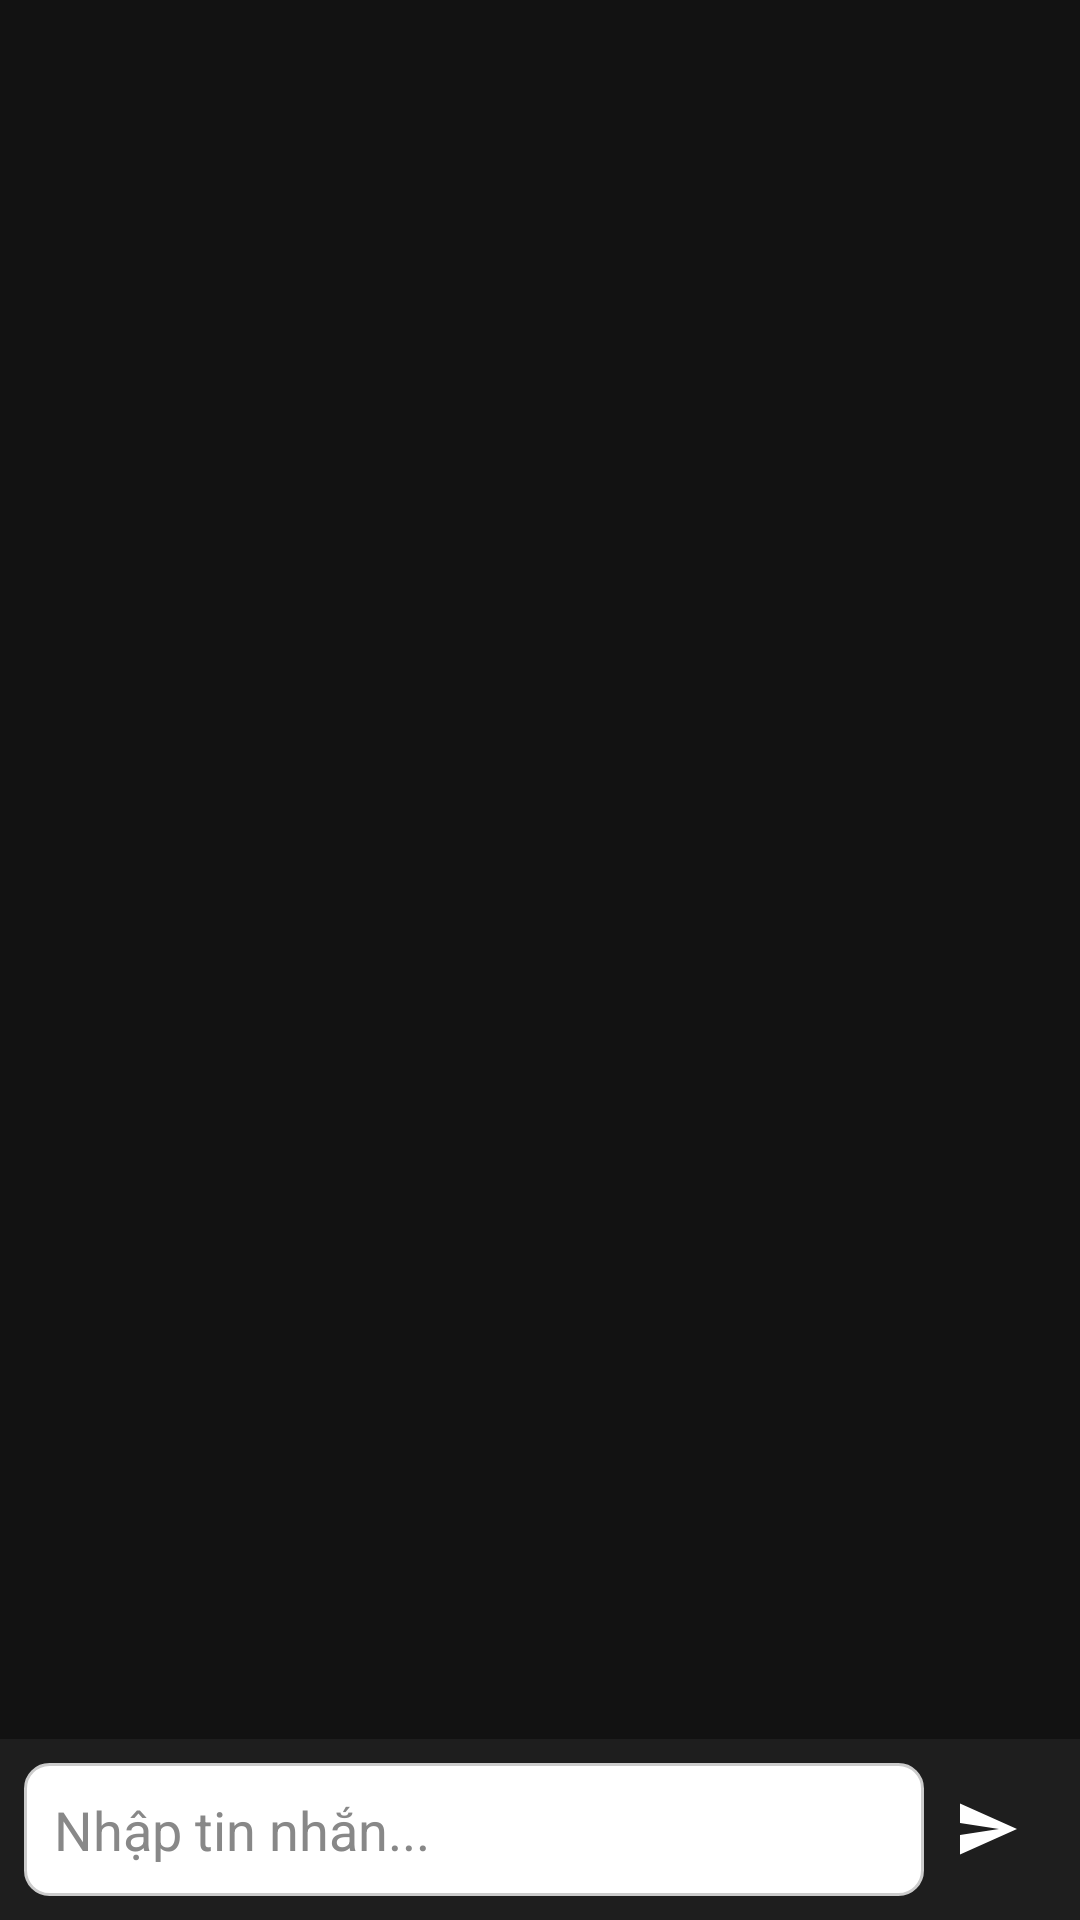

Icons on this 1080*1920 Android screen, each with its box as bbox(x1, y1, x2, y2):
Send Message: bbox(960, 1803, 1017, 1855)
